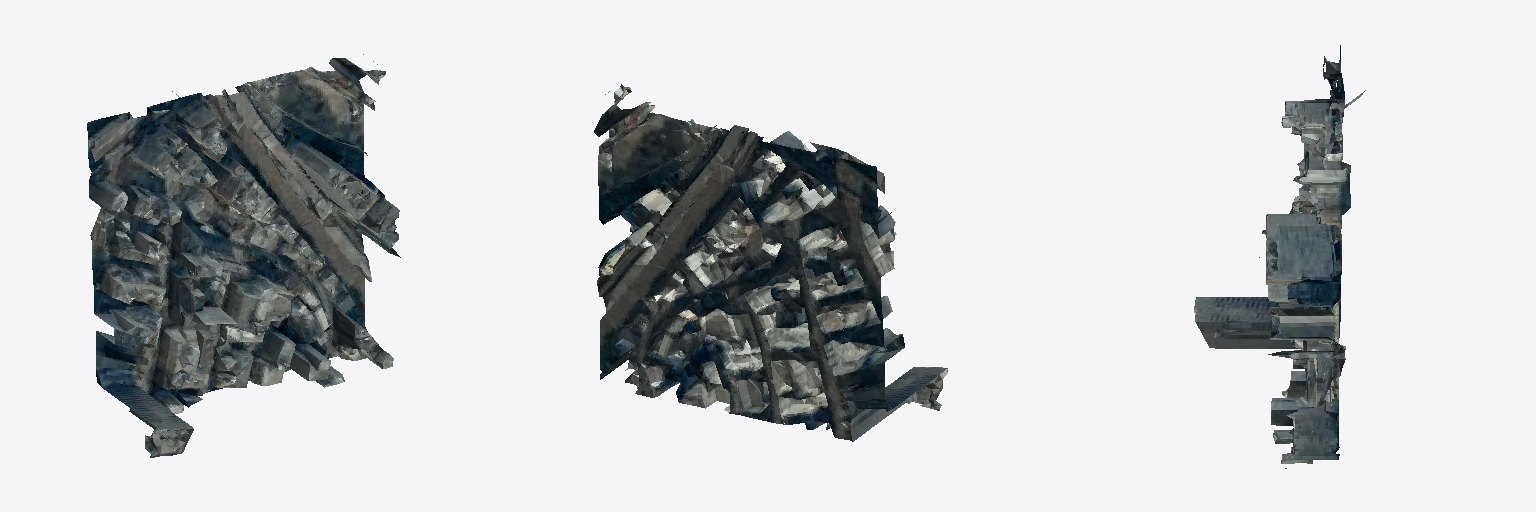
3 views of the same model, side by side, from view 1: azimuth 30°, elevation 25°; view 2: azimuth 150°, elevation 25°; view 3: azimuth 270°, elevation 25° (orthographic).
Parts seen in each view (by area): view 1: Tile_173078_LD_011_019_L15.osgb__Geometry_0; view 2: Tile_173078_LD_011_019_L15.osgb__Geometry_0; view 3: Tile_173078_LD_011_019_L15.osgb__Geometry_0.
Boxes of the visible parts, box(x1,y1,x2,y2) form: Tile_173078_LD_011_019_L15.osgb__Geometry_0: box(87, 54, 400, 457); Tile_173078_LD_011_019_L15.osgb__Geometry_0: box(594, 84, 947, 441); Tile_173078_LD_011_019_L15.osgb__Geometry_0: box(1194, 45, 1365, 468).
Bounding box in the file's own units: 255 × 255 × 137.
Materials: 1 (1 with a texture image).